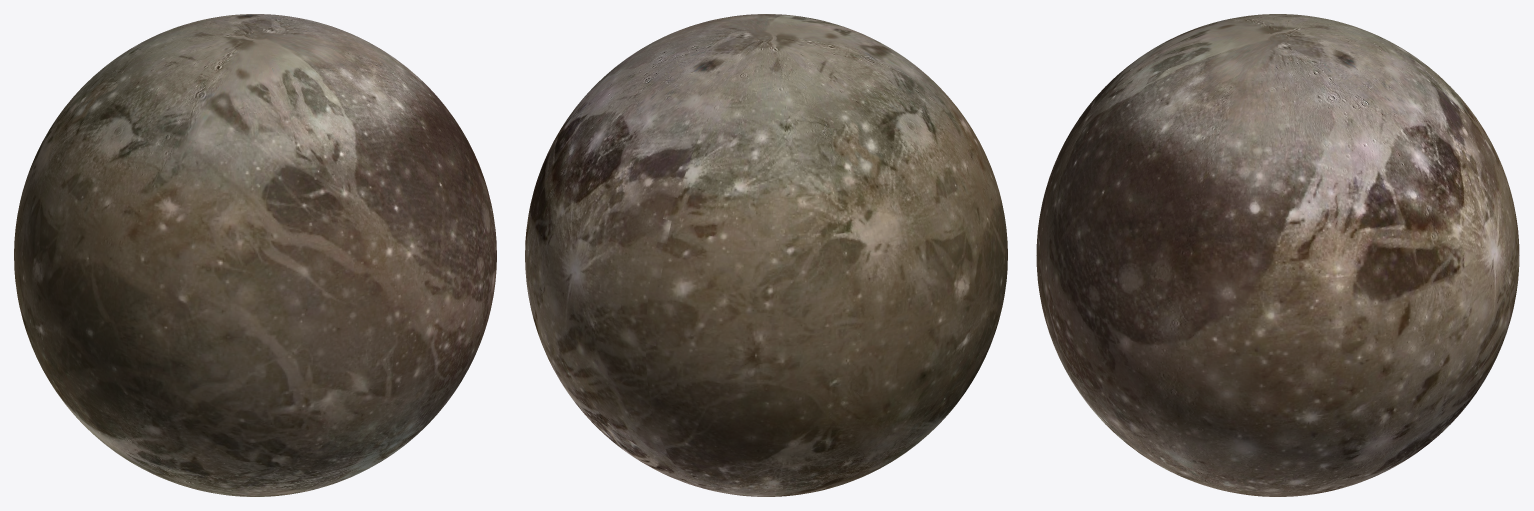
File: ganymede.obj
The picture shows the model from 3 angles, left to right: view 1: azimuth 30°, elevation 25°; view 2: azimuth 150°, elevation 25°; view 3: azimuth 270°, elevation 25°; orthographic projection.
Visible parts, largest first — view 1: earth_Sphere; view 2: earth_Sphere; view 3: earth_Sphere.
Part boxes in pixels (bbox=[...]): earth_Sphere: bbox=[14, 14, 496, 496]; earth_Sphere: bbox=[525, 14, 1007, 496]; earth_Sphere: bbox=[1036, 14, 1519, 496].
Size of the model in its own units: 2 by 2 by 2.
1 material, 1 textured.
